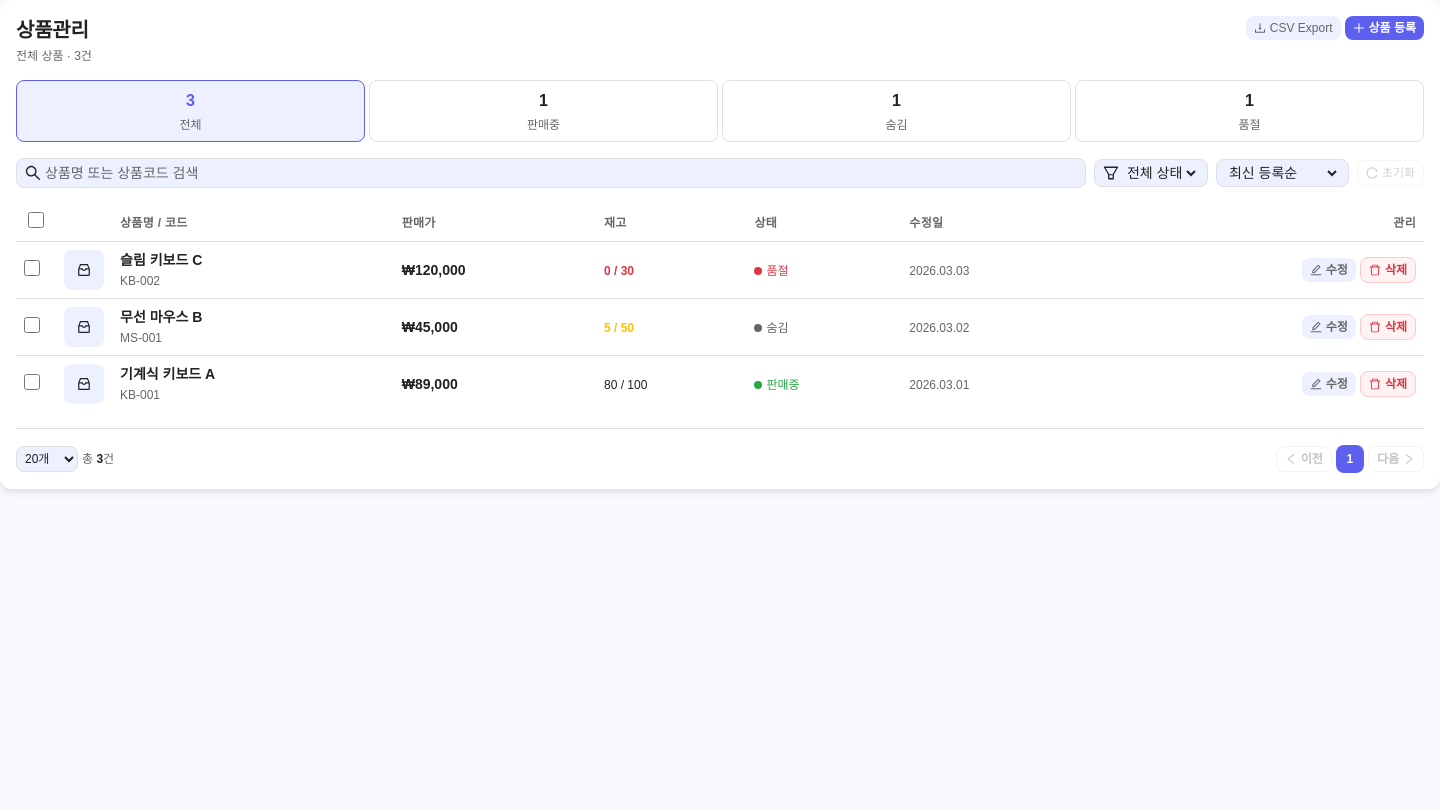
it: 일괄 삭제 › 선택 삭제 버튼 클릭 시 삭제 확인 모달이 열린다
The width and height of the screenshot is (1440, 810).
Click the checkbox named "현재 페이지 전체 선택".
click(36, 220)  # box [28,212,44,228]
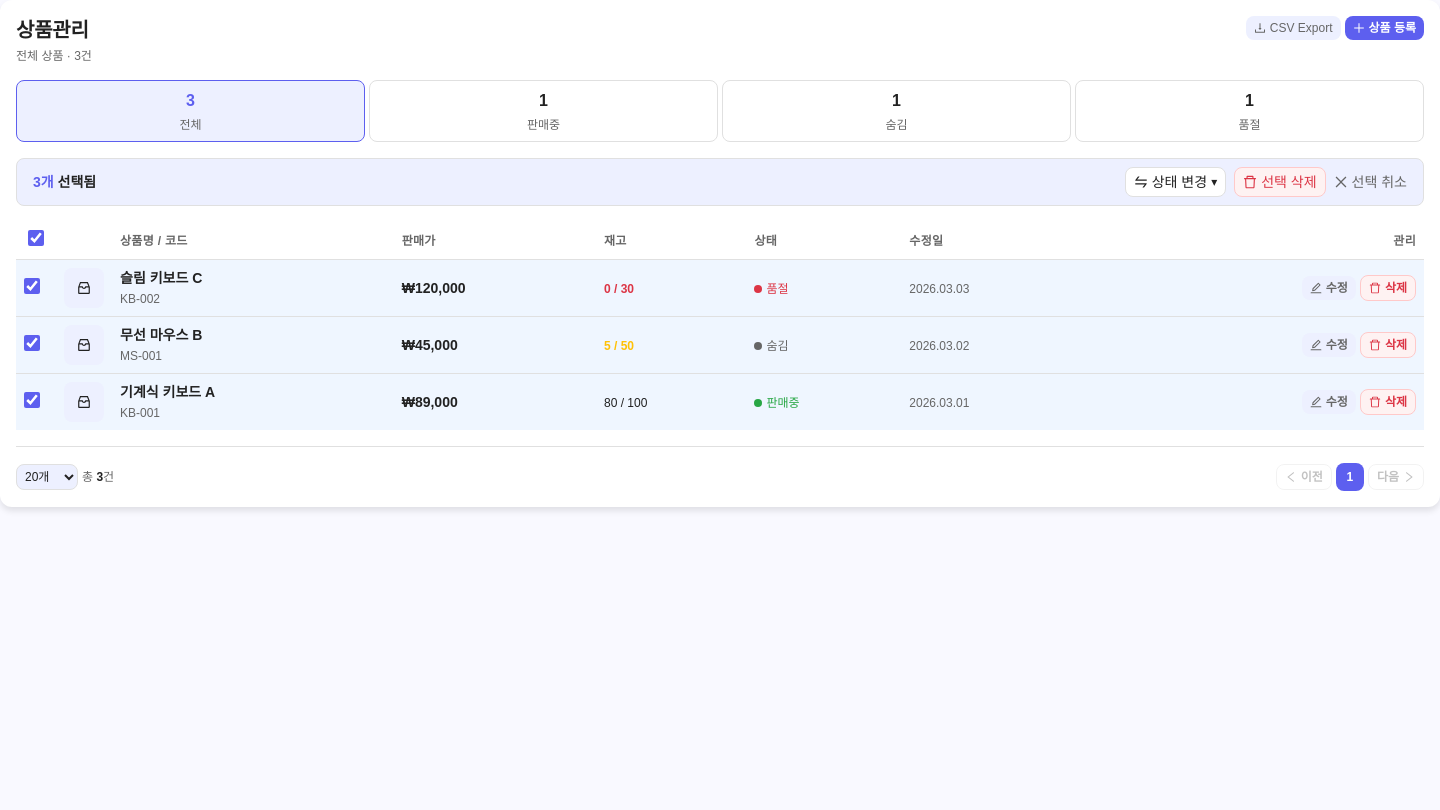
Click the button "선택 삭제".
click(1280, 182)  # box [1234,167,1326,197]
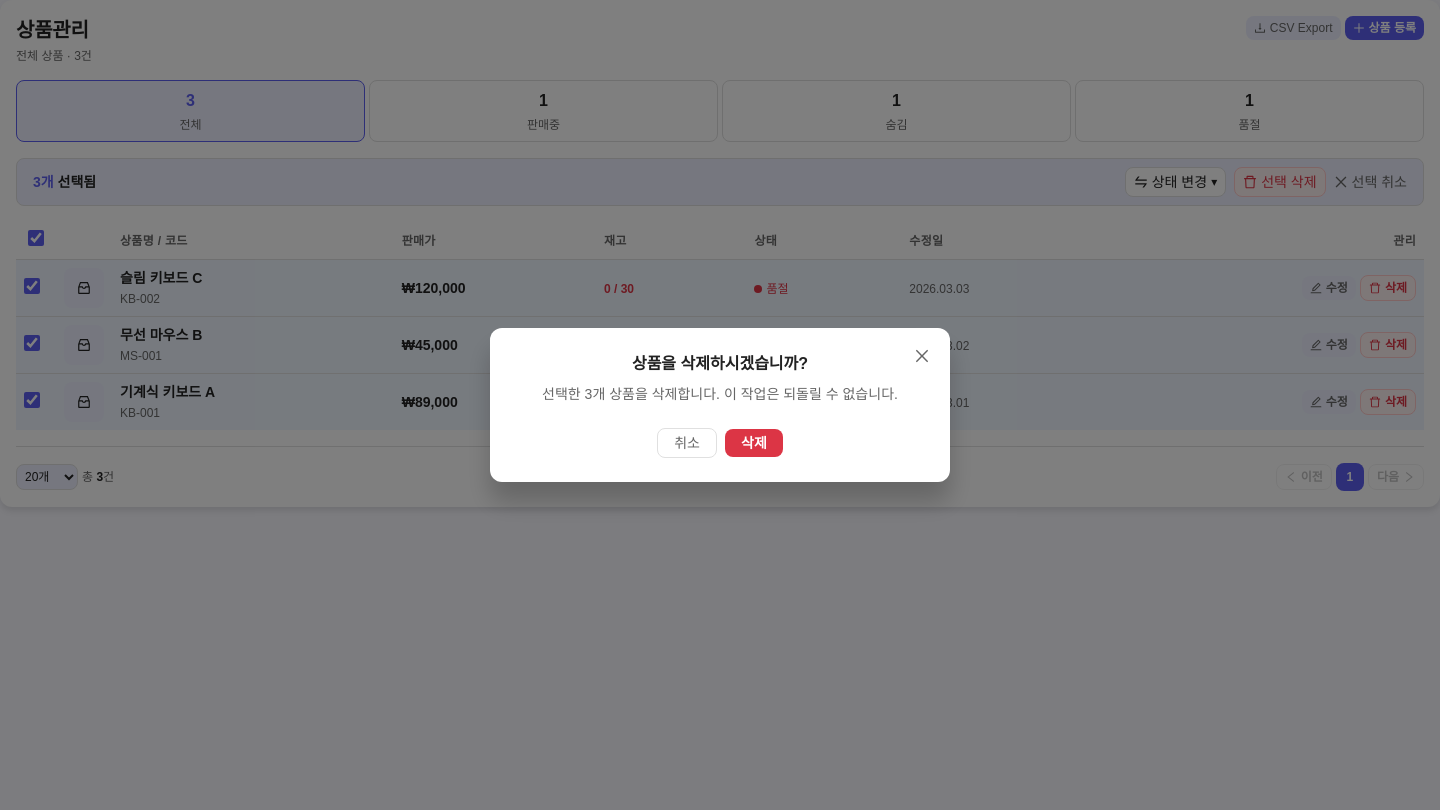
Check: the dialog is shown
Check: the heading "상품을 삭제하시겠습니까?" is shown, box [632,355,808,372]
